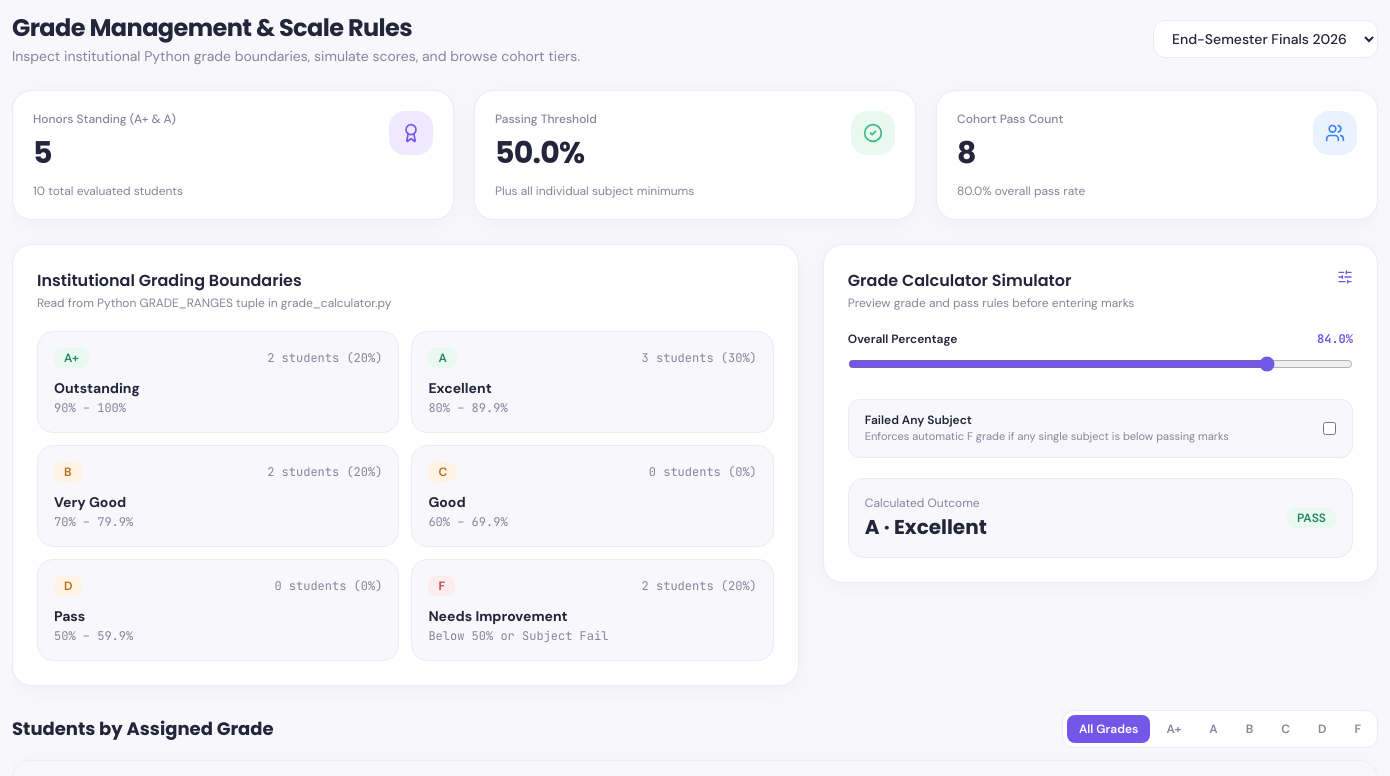
EduNova Frontend Suite › GradesPage filters by grade tier and runs interactive grade simulator
The image size is (1390, 776).
Expected: the heading "Grade Management & Scale Rules" is shown, [12,11,412,44]
Expected: the text "A · Excellent" is shown, [865,512,987,540]
What coordinates should you click on to do the following:
click the checkbox labelled "Failed Any Subject"
I would click on:
 (1330, 428)
Its box is [1323,422,1336,435].
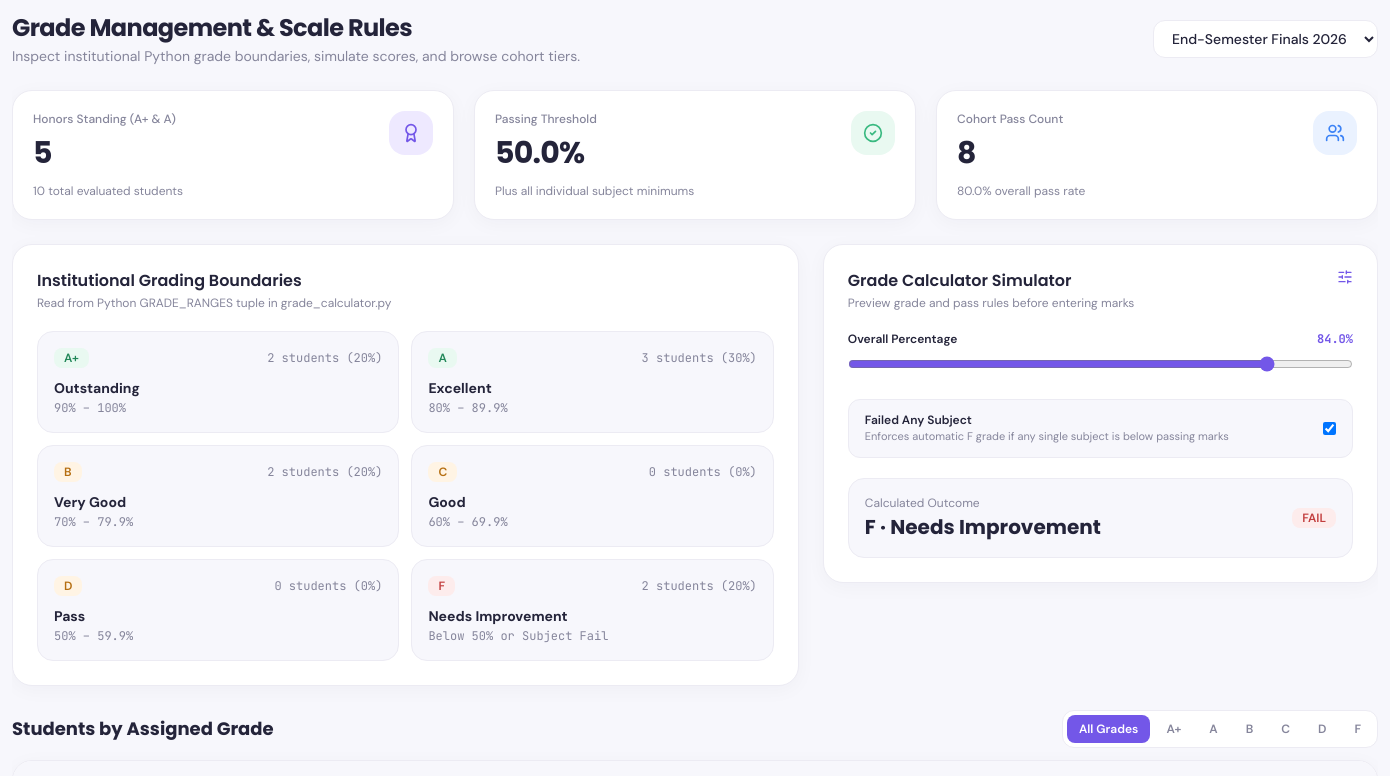
Expected: the text "F · Needs Improvement" is shown, [865,512,1101,540]
